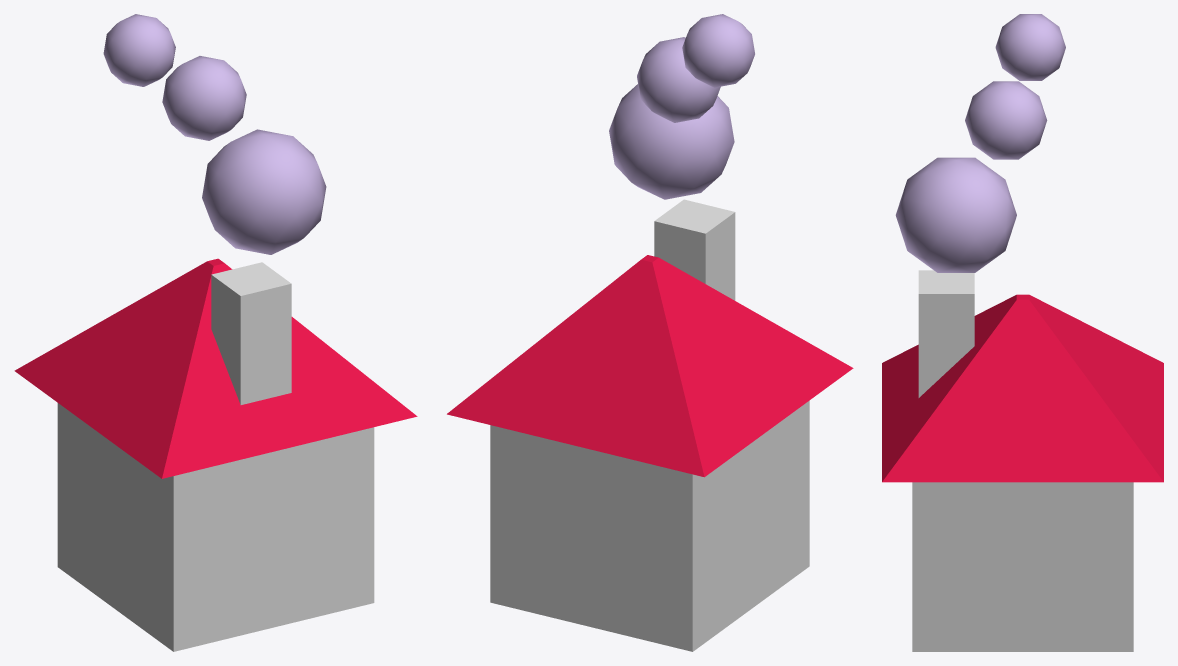
3 views of the same model, side by side, from view 1: azimuth 30°, elevation 25°; view 2: azimuth 150°, elevation 25°; view 3: azimuth 270°, elevation 25° (orthographic). The views are drawn at different scales.
Parts seen in each view (by area): view 1: Cube, Cube.001, Icosphere, Cube.002, Icosphere.001, Icosphere.002; view 2: Cube, Cube.001, Icosphere, Cube.002, Icosphere.001, Icosphere.002; view 3: Cube.001, Cube, Icosphere, Cube.002, Icosphere.001, Icosphere.002.
Boxes of the visible parts, <box> form: Cube: <box>57,403,374,651</box>; Cube.001: <box>14,258,417,478</box>; Icosphere: <box>202,129,326,254</box>; Cube.002: <box>211,262,291,404</box>; Icosphere.001: <box>162,56,246,140</box>; Icosphere.002: <box>103,14,175,86</box>; Cube: <box>490,400,809,651</box>; Cube.001: <box>447,255,853,477</box>; Icosphere: <box>609,84,734,199</box>; Cube.002: <box>654,199,735,300</box>; Icosphere.001: <box>637,37,720,122</box>; Icosphere.002: <box>682,14,754,87</box>; Cube.001: <box>882,294,1163,482</box>; Cube: <box>912,482,1133,651</box>; Icosphere: <box>895,157,1016,272</box>; Cube.002: <box>918,270,974,397</box>; Icosphere.001: <box>965,81,1047,159</box>; Icosphere.002: <box>995,14,1065,80</box>.
Bounding box in the file's own units: 2.55 × 5.55 × 2.55.
